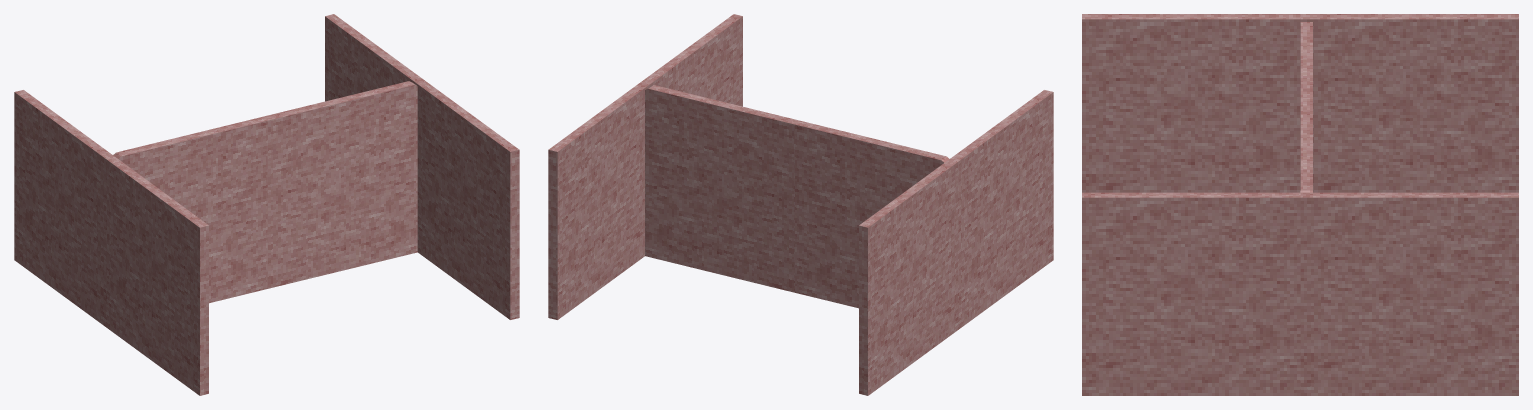
File: divider_full_h_red.glb
3 views of the same model, side by side, from view 1: azimuth 30°, elevation 25°; view 2: azimuth 150°, elevation 25°; view 3: azimuth 270°, elevation 25° (orthographic). The views are drawn at different scales.
Parts seen in each view (by area): view 1: divider_full_h_red; view 2: divider_full_h_red; view 3: divider_full_h_red.
Part boxes in pixels (x1,y1,x2,y2): divider_full_h_red: [14, 14, 519, 395]; divider_full_h_red: [548, 14, 1053, 395]; divider_full_h_red: [1082, 14, 1518, 395].
Bounding box in the file's own units: 2.99 × 1.5 × 3.
Materials: 1 (1 with a texture image).
